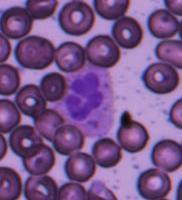N: (56, 64, 116, 138)
